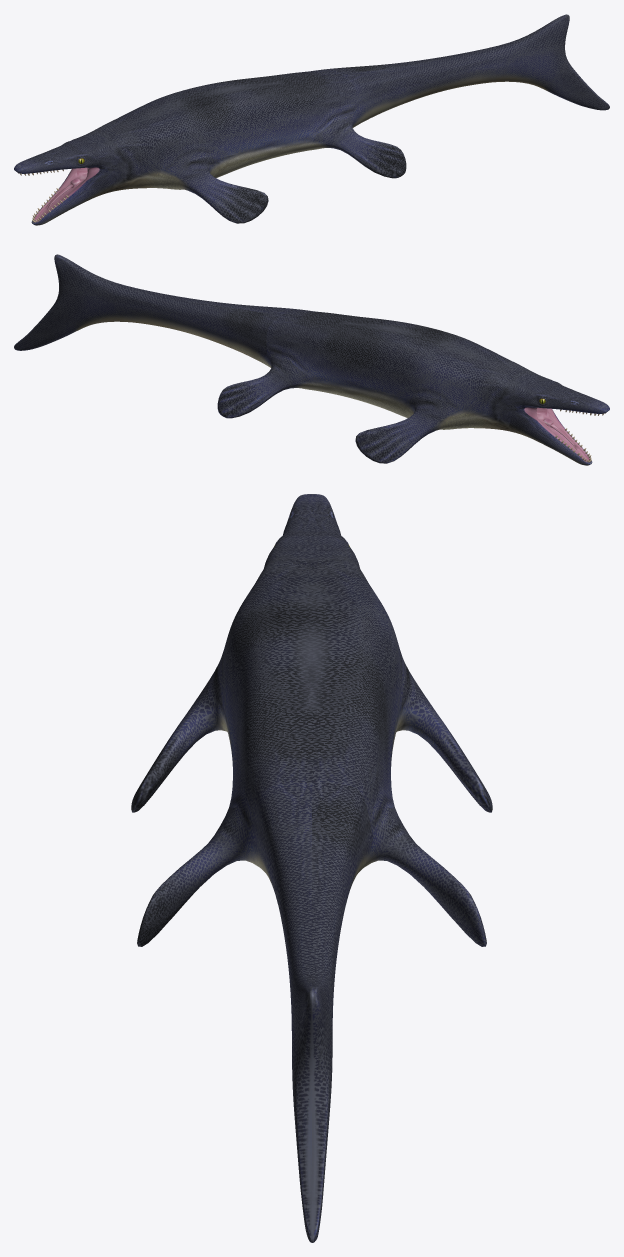
The picture shows the model from 3 angles, top to bottom: view 1: azimuth 30°, elevation 25°; view 2: azimuth 150°, elevation 25°; view 3: azimuth 270°, elevation 25°; orthographic projection. The views are drawn at different scales.
Visible parts, largest first — view 1: Animal; view 2: Animal; view 3: Animal.
Part boxes in pixels (bbox=[...]): Animal: bbox=[14, 14, 609, 225]; Animal: bbox=[14, 254, 609, 465]; Animal: bbox=[131, 494, 492, 1242].
Size of the model in its own units: 3.2 by 0.5808 by 0.8421.
2 materials, 2 textured.
